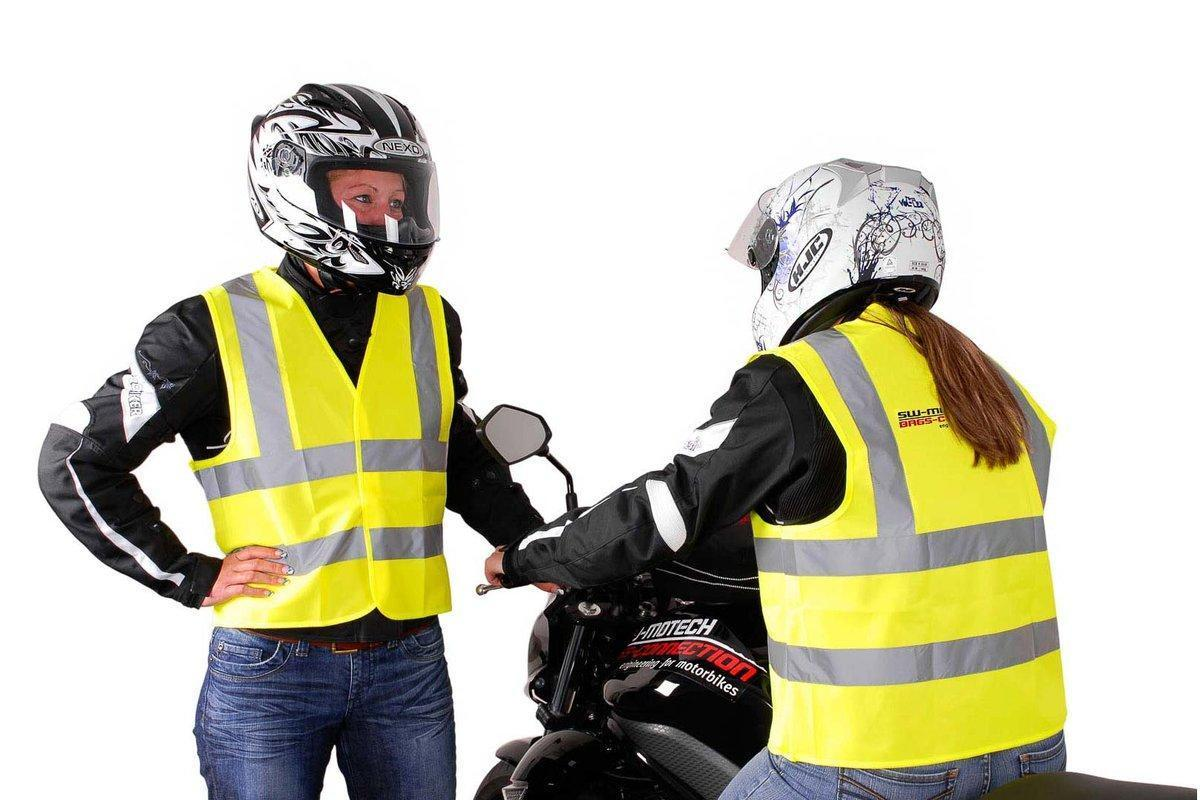Vest: (747, 337, 1068, 747), (206, 281, 463, 626)
